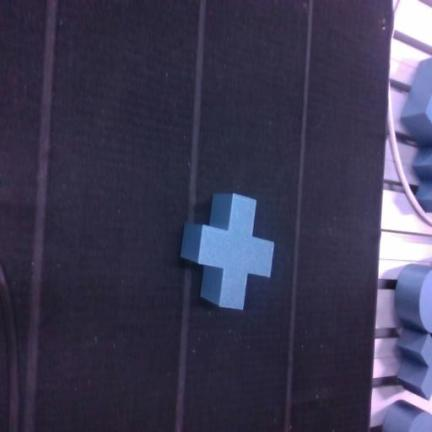cross: (181, 195, 274, 309)
